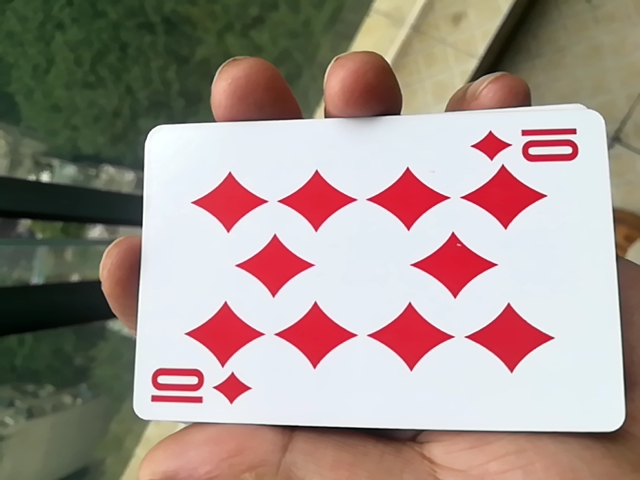fk 10: (119, 120, 622, 446)
